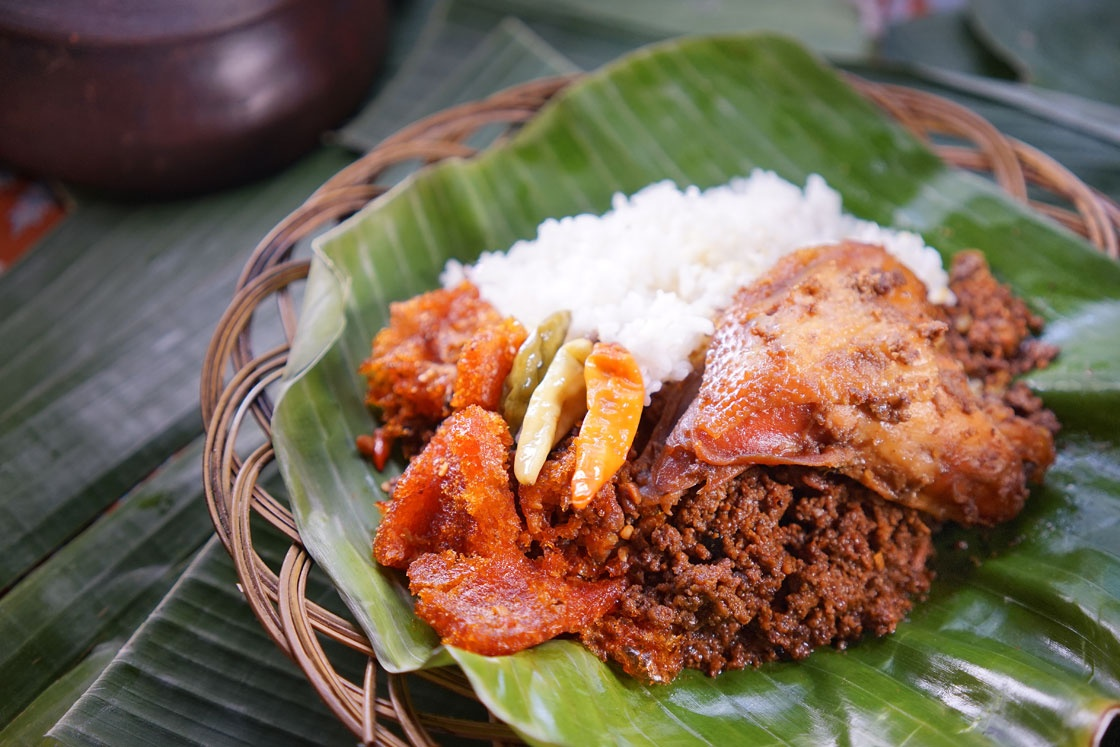gudeg: (366, 168, 1053, 669)
